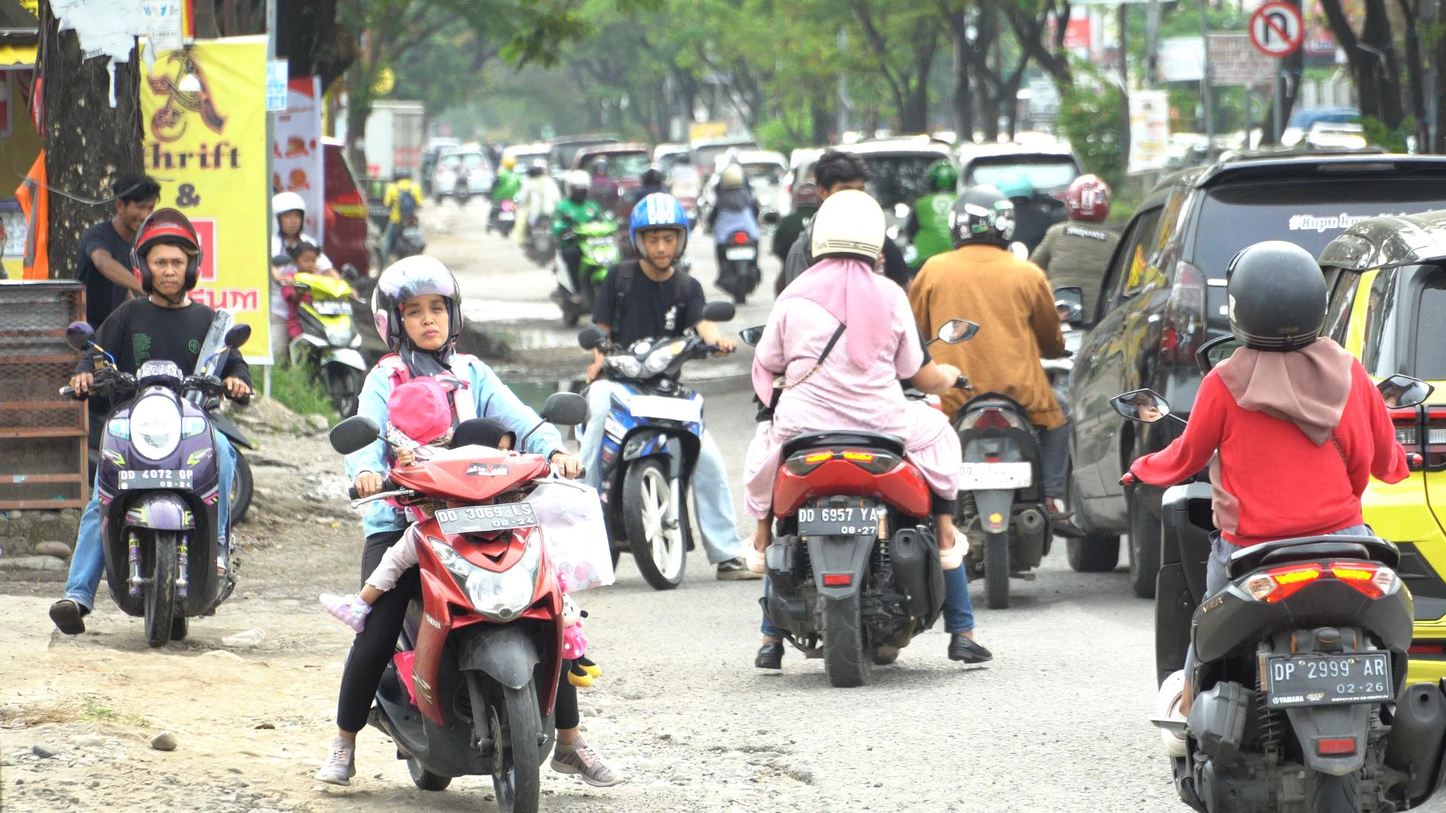number-plate: (437, 502, 539, 538), (116, 466, 194, 495)
